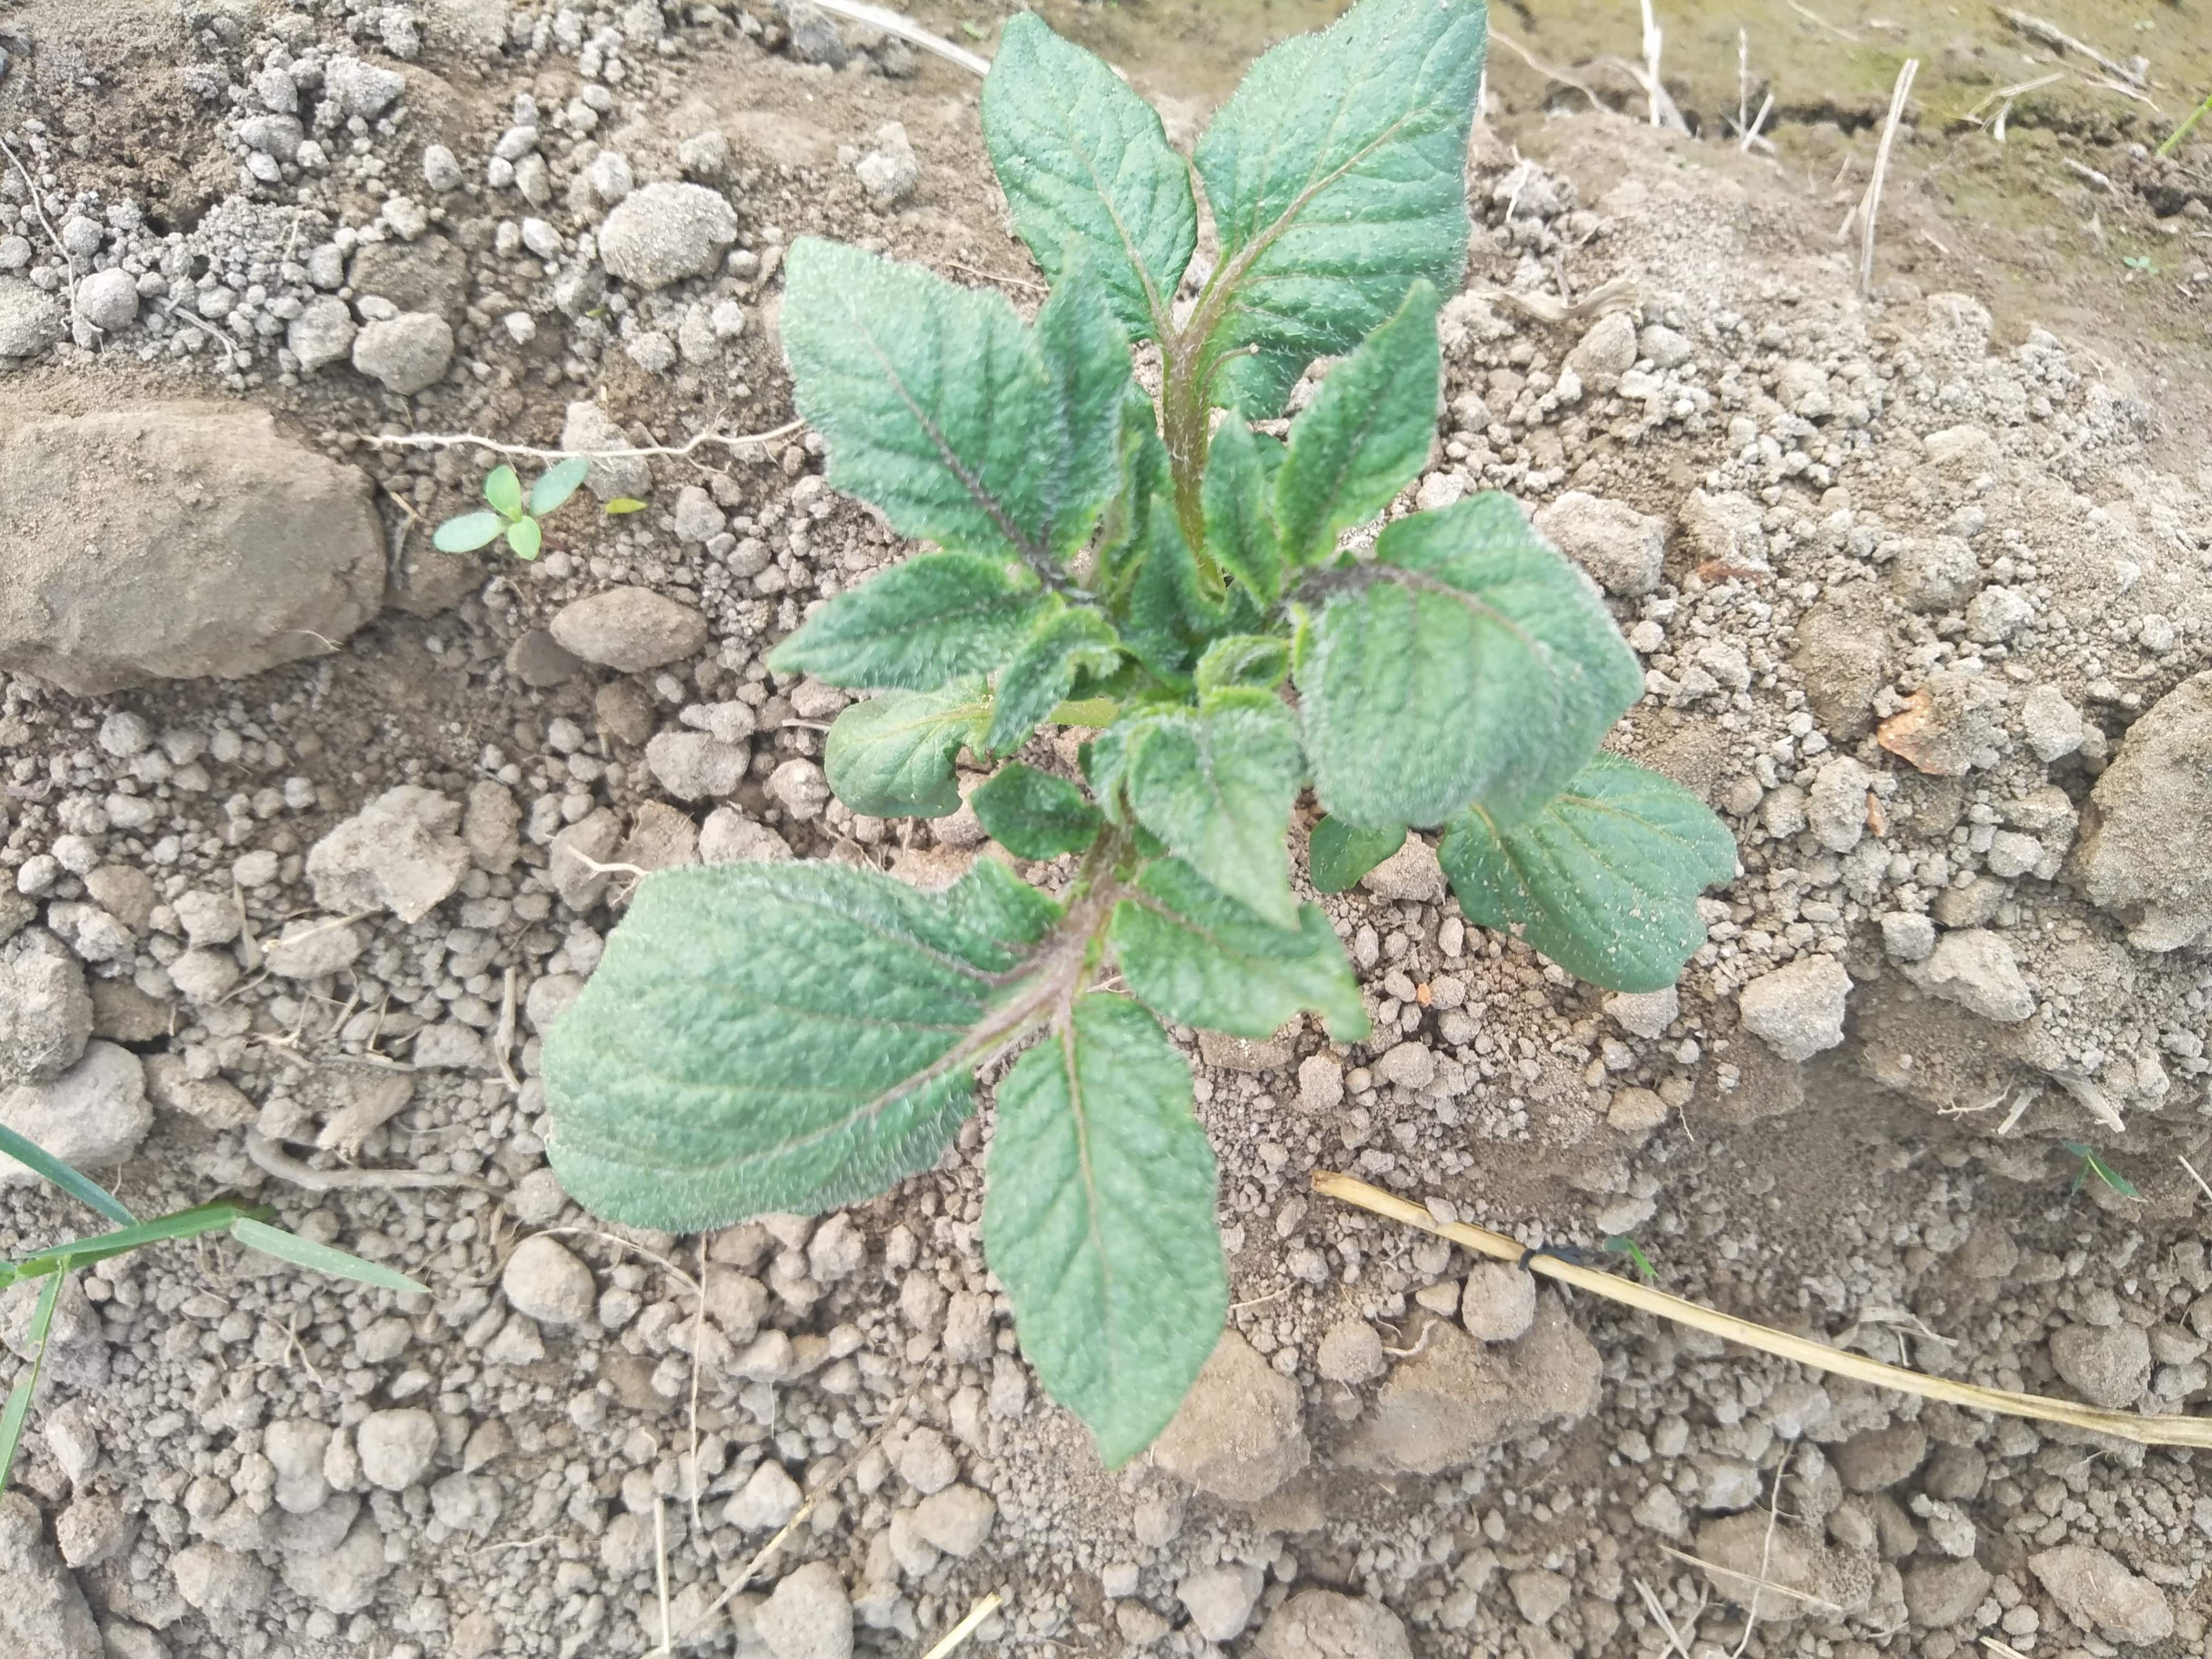daun: (538, 889, 1050, 1202), (775, 237, 1129, 568), (1318, 509, 1625, 814), (1010, 1011, 1216, 1438), (1205, 10, 1467, 324), (977, 10, 1195, 324), (1456, 774, 1731, 965), (1109, 866, 1357, 1032), (1125, 720, 1305, 915), (1298, 277, 1423, 545), (768, 579, 1062, 671), (1132, 512, 1235, 681), (988, 626, 1120, 730), (834, 697, 967, 800), (970, 763, 1103, 863), (1216, 423, 1271, 601)
